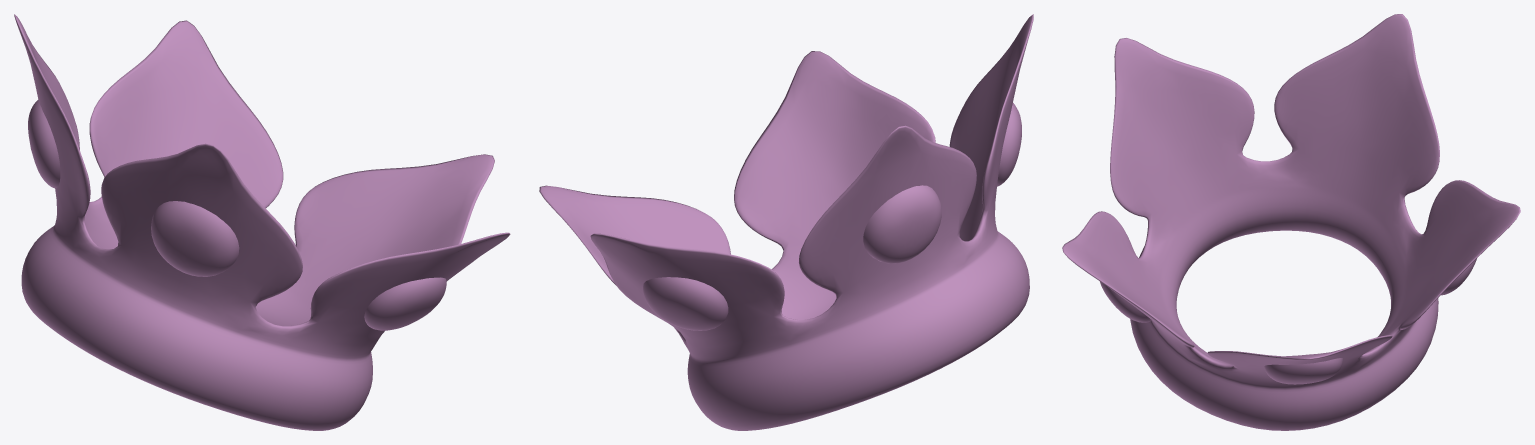
The model's file is dress_crown.obj.
3 renders of one model, left to right at view 1: azimuth 30°, elevation 25°; view 2: azimuth 150°, elevation 25°; view 3: azimuth 270°, elevation 25°, orthographic. The views are drawn at different scales.
Parts seen in each view (by area): view 1: princess_platinum_crown; view 2: princess_platinum_crown; view 3: princess_platinum_crown.
Part boxes in pixels (box(x1,y1,x2,y2)): princess_platinum_crown: box(14, 14, 510, 430); princess_platinum_crown: box(539, 14, 1033, 430); princess_platinum_crown: box(1062, 14, 1520, 430).
Size of the model in its own units: 18.11 by 14.46 by 18.69.
